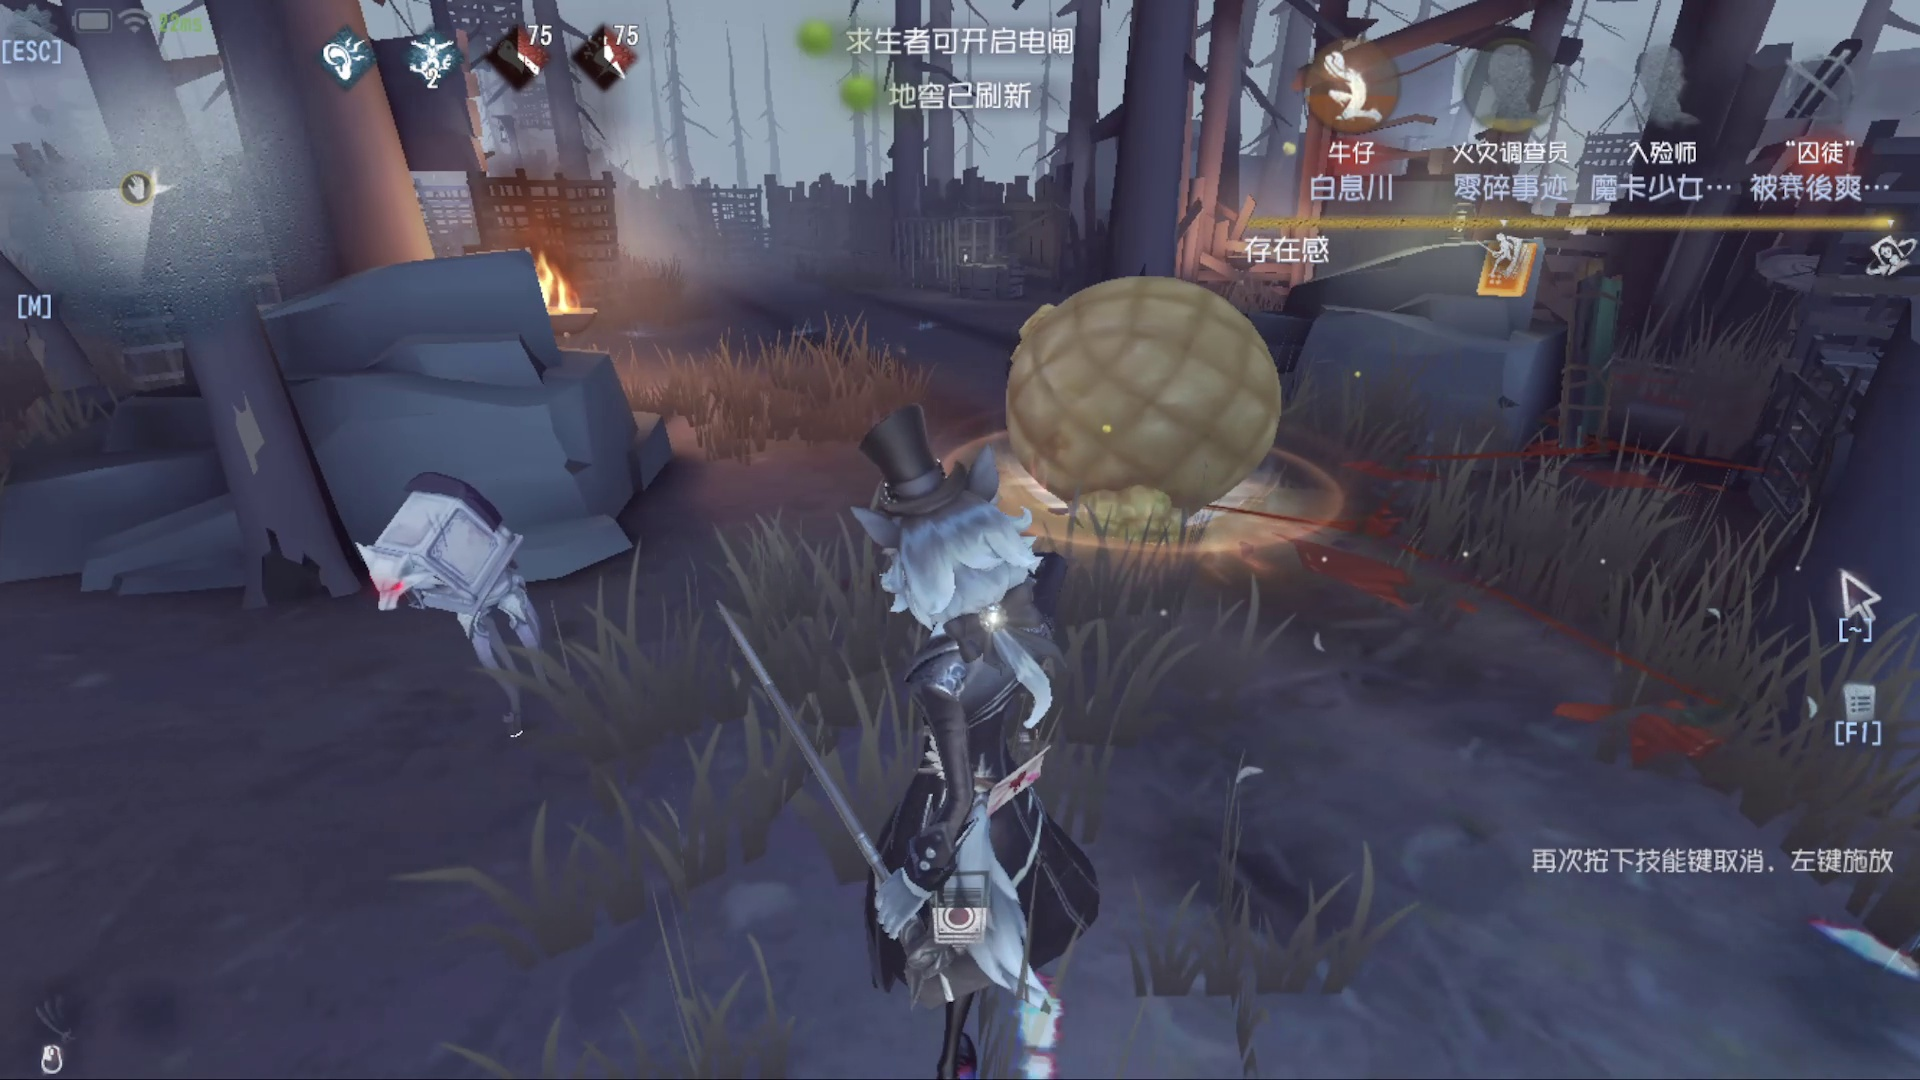脚印: (1325, 431, 1722, 767)
